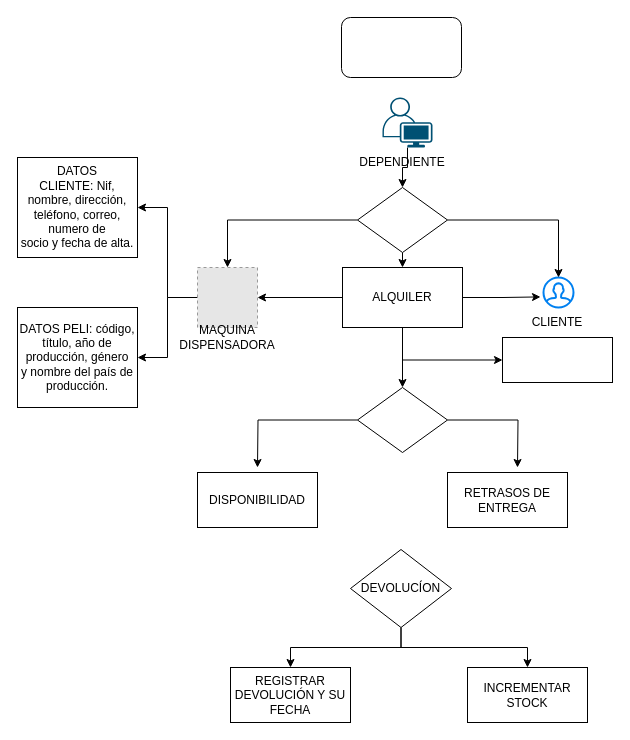
This 630x740 diagram has some shape labels left out. Grey dashed boxes stand in for pictures. The shapes that lost their labels are listed below. From the top down, each one's centre as x and y in pixels, then its label:
the point at 401,47: Casos de Uso
the point at 402,219: REGISTRA
the point at 557,359: REGISTRAR ALQUILER
the point at 402,419: VERIFICA
